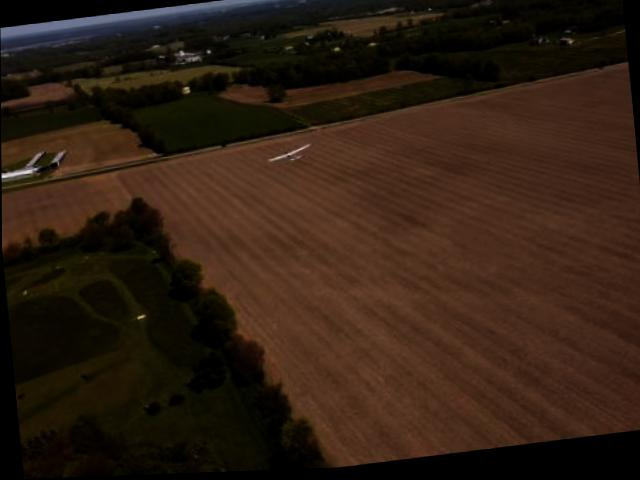uav: (261, 131, 319, 175)
